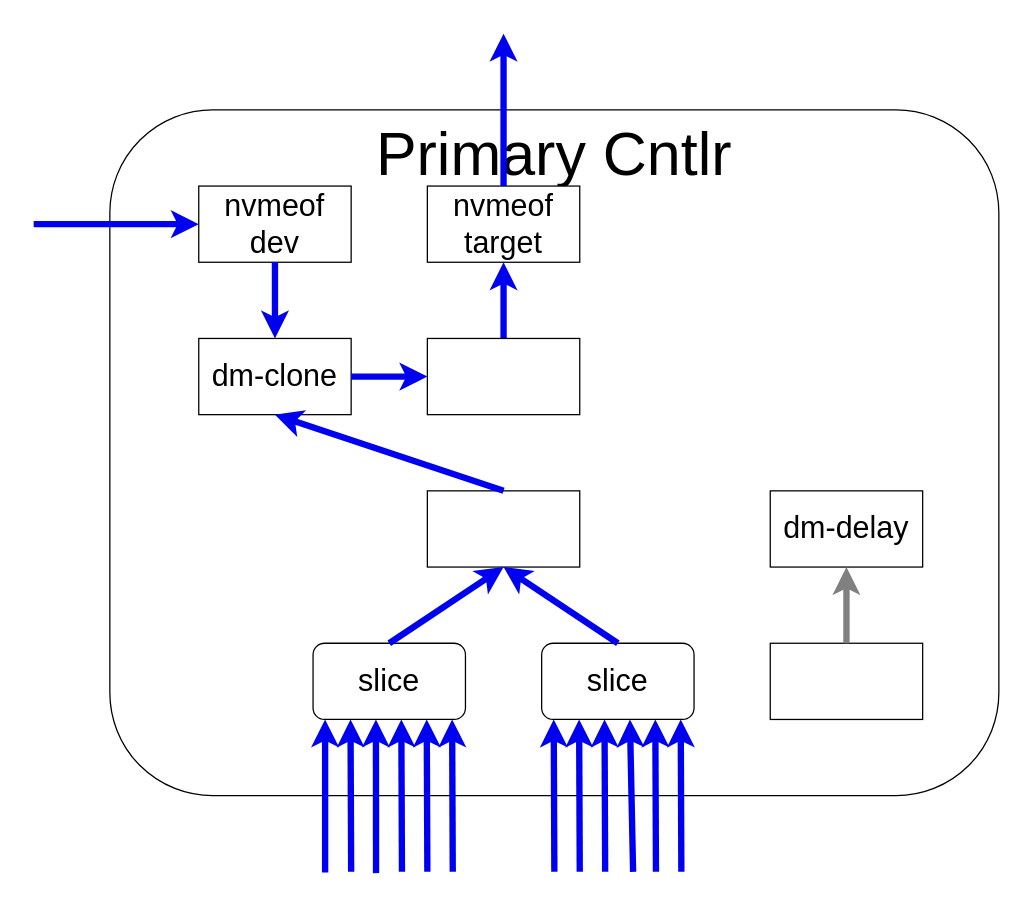
Image size: 1021x908. Some labels were removed from this diagram. The shapes that lost their labels are listed below. From the top down, each one's box as (x1, y1, x2, y2) in pixels, then its label:
(426, 337, 580, 415): dm-linear
(426, 490, 580, 567): raid0
(769, 642, 923, 719): dm-error
